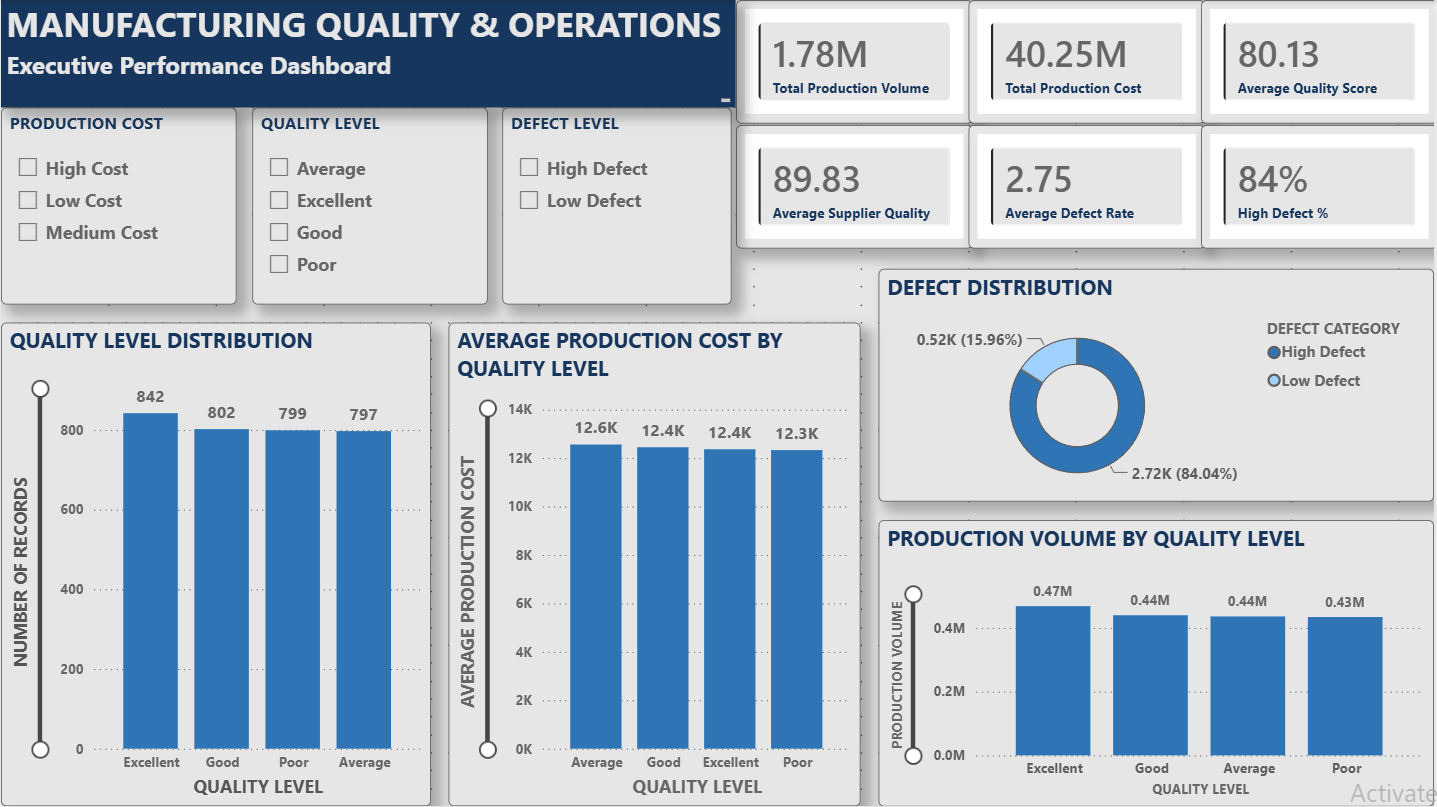

The dashboard page shown, as its layout file describes it:
{"tool":"powerbi","page":{"name":"Executive Performance Dashboard","canvas":[1280,720],"ordinal":0},"visuals":[{"type":"cardVisual","fields":{"Data":["ManufacturingData.Total Production Volume"]},"box":[656,0,211,110],"z":0},{"type":"cardVisual","fields":{"Data":["ManufacturingData.Total Production Cost"]},"box":[864,0,211,110],"z":1000},{"type":"cardVisual","fields":{"Data":["ManufacturingData.Average Quality Score"]},"box":[1072,0,211,110],"z":2000},{"type":"cardVisual","fields":{"Data":["ManufacturingData.Average Supplier Quality"]},"box":[656,112,211,110],"z":3000},{"type":"cardVisual","fields":{"Data":["ManufacturingData.Average Defect Rate"]},"box":[864,112,211,110],"z":4000},{"type":"cardVisual","fields":{"Data":["ManufacturingData.High Defect %"]},"box":[1072,112,211,110],"z":5000},{"type":"textbox","box":[0,320,220,150],"z":6000},{"type":"slicer","title":"PRODUCTION COST","fields":{"Values":["ManufacturingData.ProductionCostCategory"]},"box":[0,96,210,176],"z":7000},{"type":"slicer","title":"QUALITY LEVEL","fields":{"Values":["ManufacturingData.QualityCategory"]},"box":[224,96,210,176],"z":8000},{"type":"slicer","title":"DEFECT LEVEL","fields":{"Values":["ManufacturingData.DefectCategory"]},"box":[448,96,205,176],"z":9000},{"type":"clusteredColumnChart","title":"QUALITY LEVEL DISTRIBUTION","fields":{"Category":["ManufacturingData.QualityCategory"],"Y":["CountNonNull(ManufacturingData.QualityCategory)"]},"box":[0,288,384,432],"z":10000},{"type":"donutChart","title":"DEFECT DISTRIBUTION","fields":{"Category":["ManufacturingData.DefectCategory"],"Y":["CountNonNull(ManufacturingData.DefectCategory)"]},"box":[784,240,496,208],"z":11000},{"type":"clusteredColumnChart","title":"AVERAGE PRODUCTION COST BY QUALITY LEVEL","fields":{"Category":["ManufacturingData.QualityCategory"],"Y":["ManufacturingData.Average Production Cost"]},"box":[400,288,368,432],"z":12000},{"type":"clusteredColumnChart","title":"PRODUCTION VOLUME BY QUALITY LEVEL","fields":{"Category":["ManufacturingData.QualityCategory"],"Y":["Sum(ManufacturingData.ProductionVolume)"]},"box":[784,464,496,256],"z":13000},{"type":"textbox","title":"MANUFACTURING QUALITY & OPERATIONS","box":[0,0,656,96],"z":14000}]}

Visuals, with their boxes in screenshot pixels (x1, y1, x2, y2), scaled from the page's 1280x720 canvas onto the 1437x807 screenshot:
cardVisual - ManufacturingData.Total Production Volume: [736,0,973,123]
cardVisual - ManufacturingData.Total Production Cost: [970,0,1207,123]
cardVisual - ManufacturingData.Average Quality Score: [1203,0,1436,123]
cardVisual - ManufacturingData.Average Supplier Quality: [736,126,973,249]
cardVisual - ManufacturingData.Average Defect Rate: [970,126,1207,249]
cardVisual - ManufacturingData.High Defect %: [1203,126,1436,249]
textbox: [0,359,247,527]
"PRODUCTION COST" slicer: [0,108,236,305]
"QUALITY LEVEL" slicer: [251,108,487,305]
"DEFECT LEVEL" slicer: [503,108,733,305]
"QUALITY LEVEL DISTRIBUTION" clusteredColumnChart: [0,323,431,806]
"DEFECT DISTRIBUTION" donutChart: [880,269,1436,502]
"AVERAGE PRODUCTION COST BY QUALITY LEVEL" clusteredColumnChart: [449,323,862,806]
"PRODUCTION VOLUME BY QUALITY LEVEL" clusteredColumnChart: [880,520,1436,806]
"MANUFACTURING QUALITY & OPERATIONS" textbox: [0,0,736,108]
